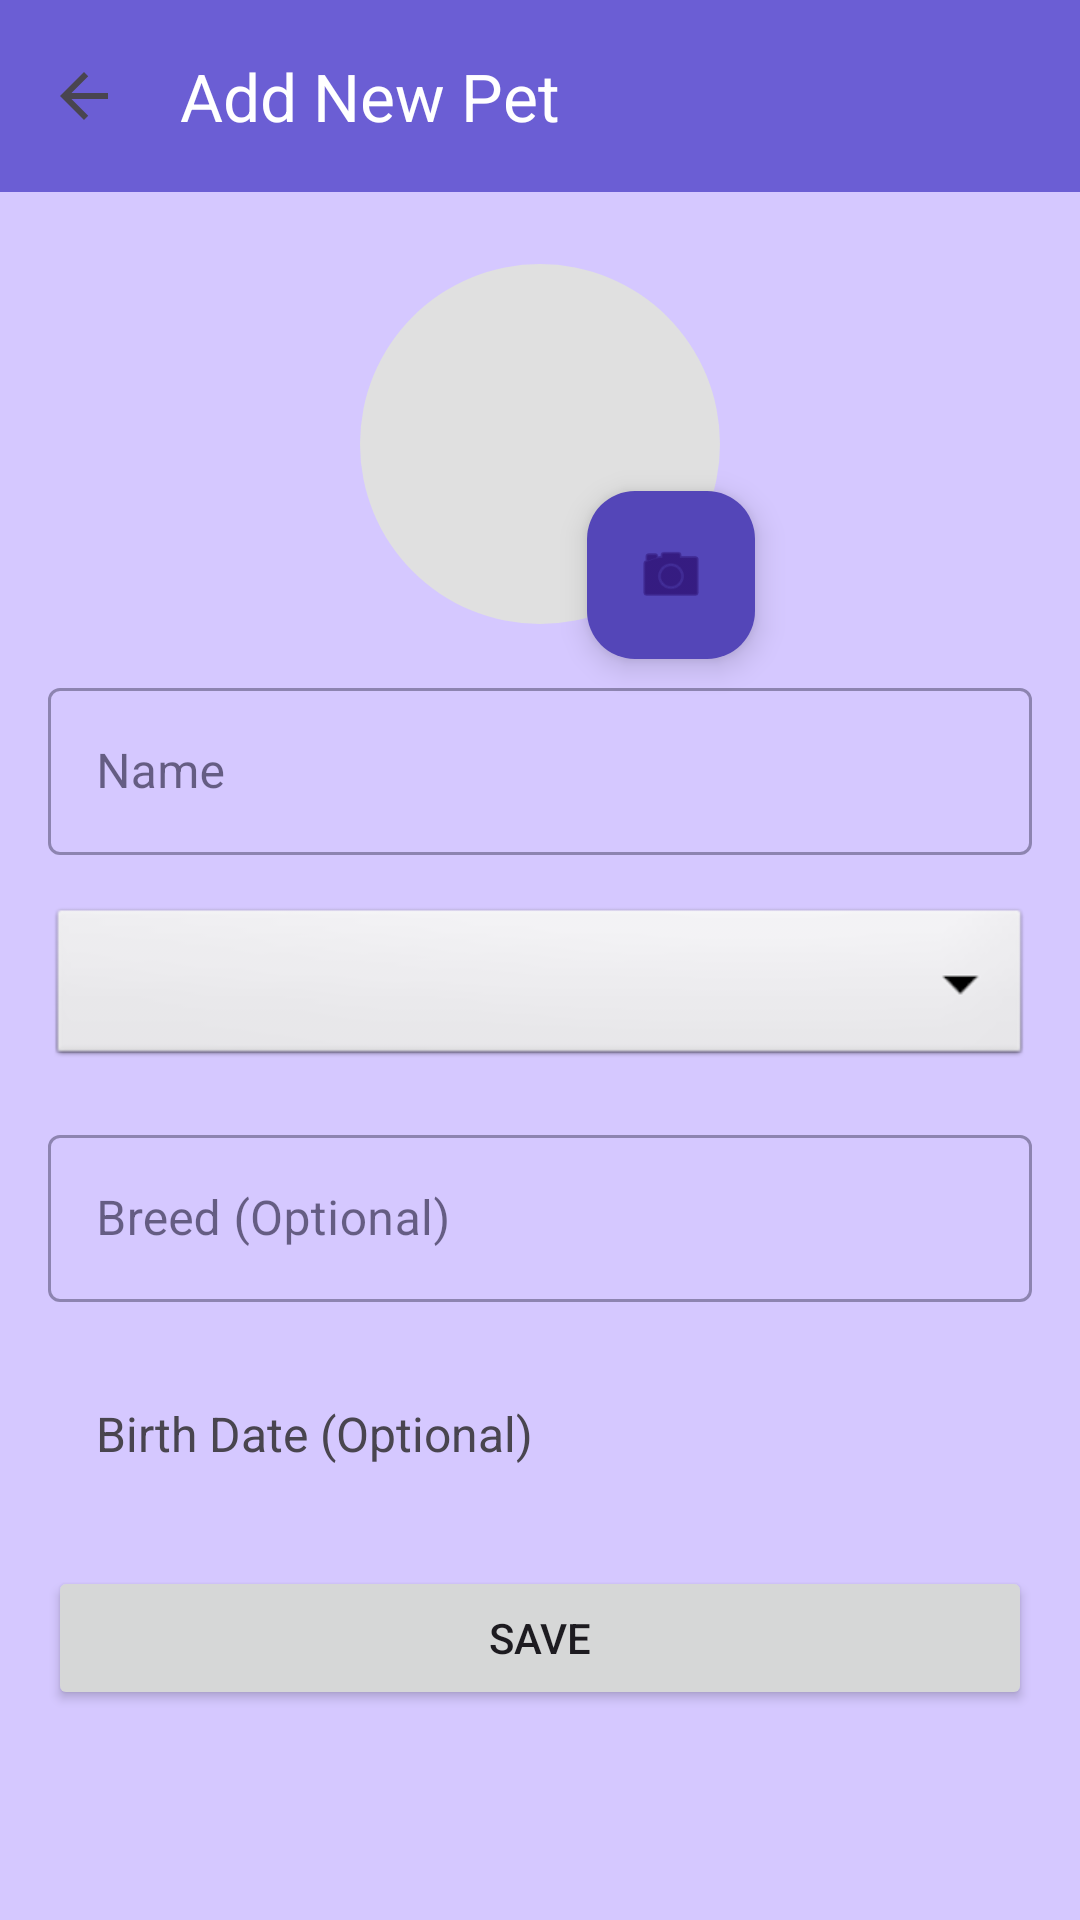

Icon click points for this 1080w x 1920h phone screenshot, format (x,y):
camera: (671,575)
